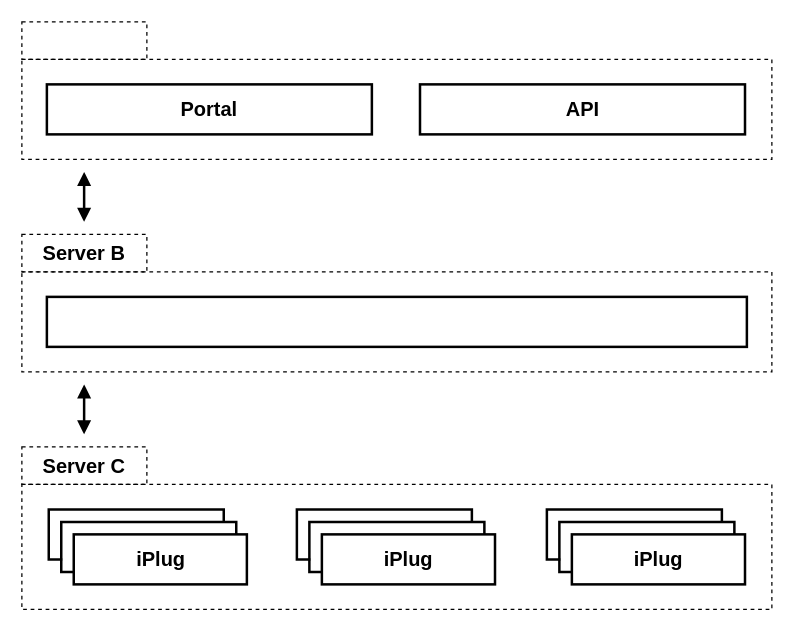
Some shapes in this 794 by 631 pixel diagram are drawn without their labels. Each missing label, with the centre of its shape:
"iBus" belongs at point (396, 321).
"Server A" belongs at point (84, 40).
